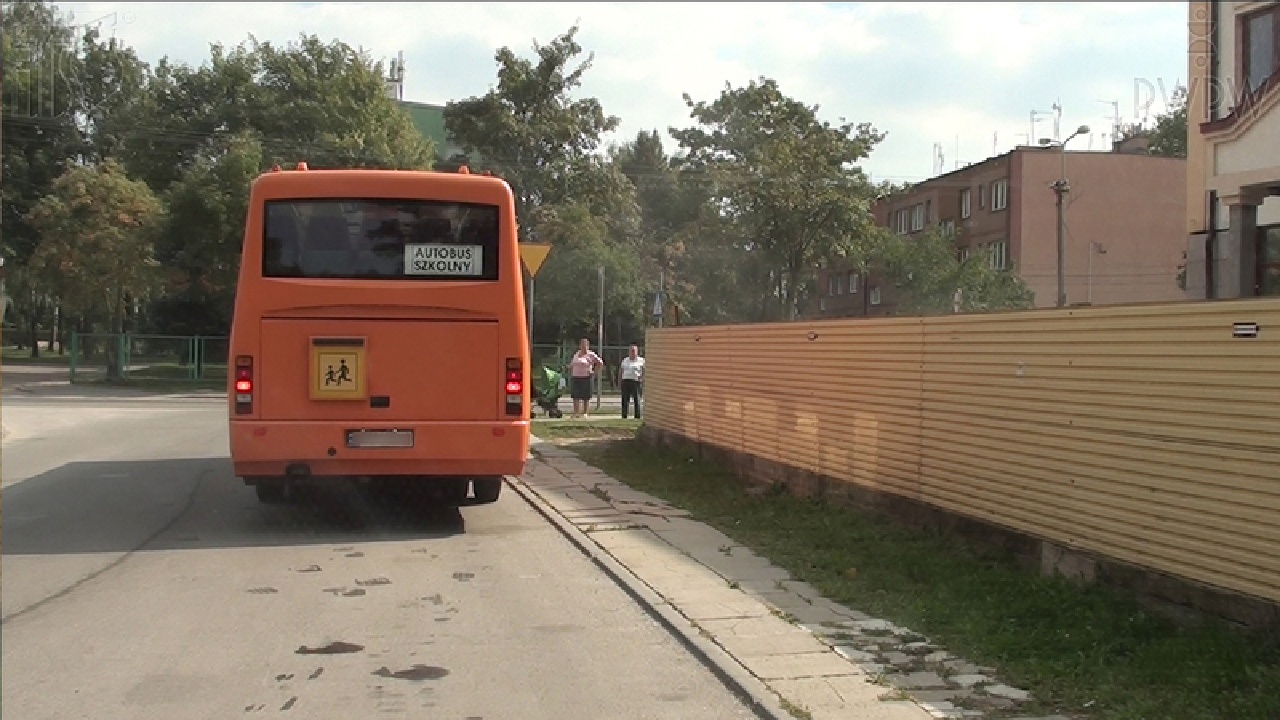A7: (517, 242, 552, 277)
